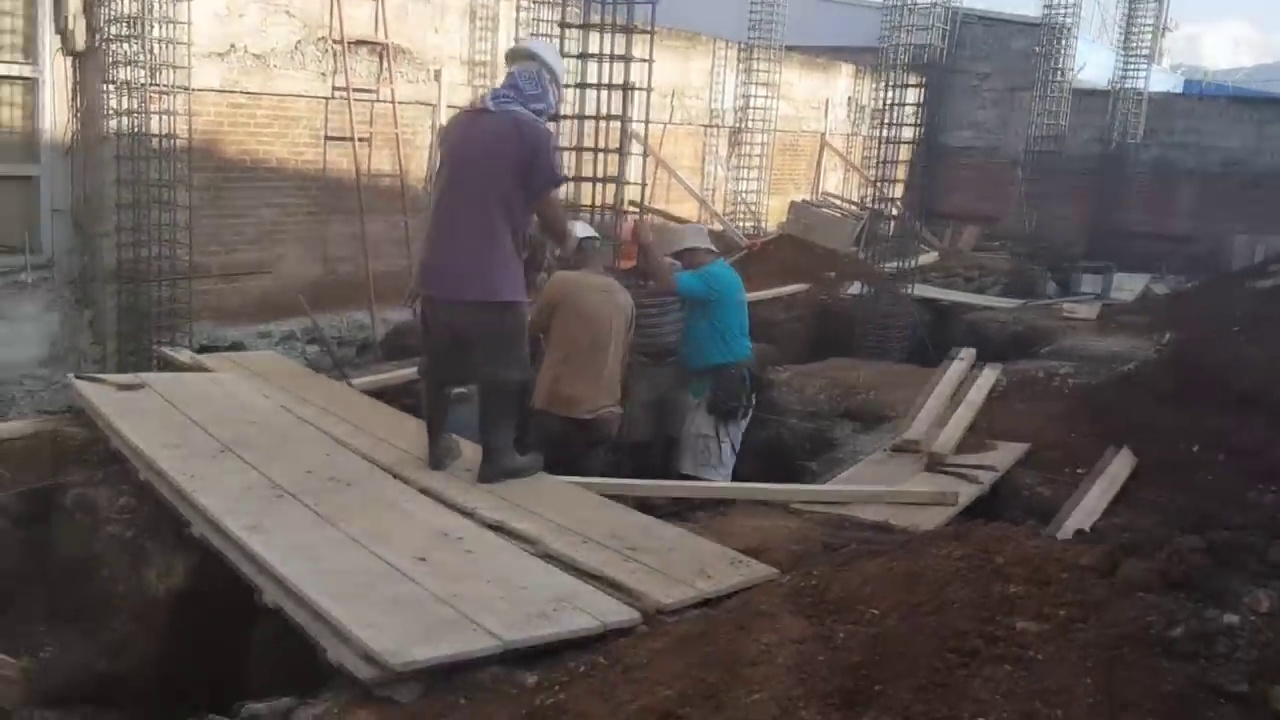helmet: (497, 38, 565, 91), (607, 207, 655, 271), (555, 216, 602, 252)
helmet-off: (672, 233, 720, 275)
helmet-on: (495, 39, 568, 119), (554, 215, 611, 275)
person: (401, 33, 571, 478), (522, 214, 645, 482), (665, 225, 753, 480)
